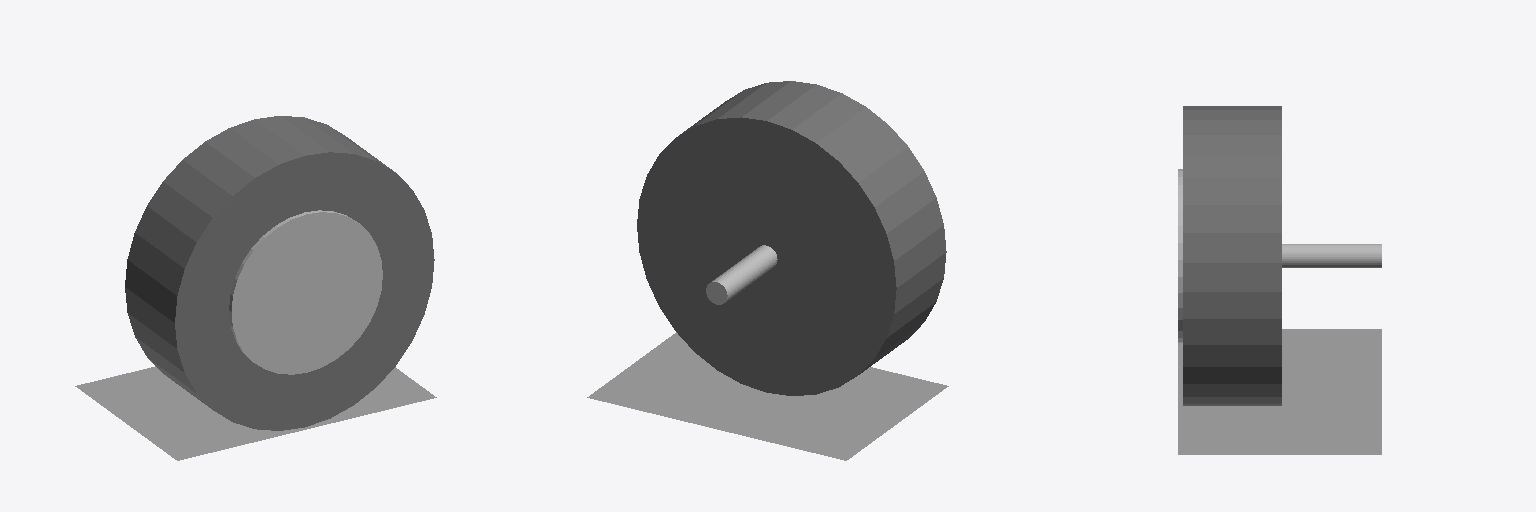
File: anhaenger_aufbau_teil2.obj
The picture shows the model from 3 angles: view 1: azimuth 30°, elevation 25°; view 2: azimuth 150°, elevation 25°; view 3: azimuth 270°, elevation 25°; orthographic projection.
Parts seen in each view (by area): view 1: Cylinder_96_4, Cylinder_96_7, Cylinder_32_3, ground_1, Cylinder_32_6; view 2: Cylinder_2, ground_1, Cylinder_32_3, Cylinder_32_9; view 3: Cylinder_32_3, ground_1, Cylinder_32_9, Cylinder_32_6.
Boxes of the visible parts, x1=… form: Cylinder_96_4: x1=175, y1=152, x2=434, y2=430; Cylinder_96_7: x1=232, y1=212, x2=382, y2=374; Cylinder_32_3: x1=125, y1=116, x2=395, y2=407; ground_1: x1=75, y1=366, x2=436, y2=460; Cylinder_32_6: x1=229, y1=210, x2=359, y2=362; Cylinder_2: x1=637, y1=117, x2=896, y2=395; ground_1: x1=587, y1=332, x2=948, y2=460; Cylinder_32_3: x1=679, y1=81, x2=946, y2=374; Cylinder_32_9: x1=712, y1=245, x2=777, y2=302; Cylinder_32_3: x1=1183, y1=106, x2=1281, y2=405; ground_1: x1=1178, y1=329, x2=1381, y2=454; Cylinder_32_9: x1=1282, y1=244, x2=1381, y2=267; Cylinder_32_6: x1=1178, y1=169, x2=1182, y2=342.
Size of the model in its own units: 60 by 60 by 41.